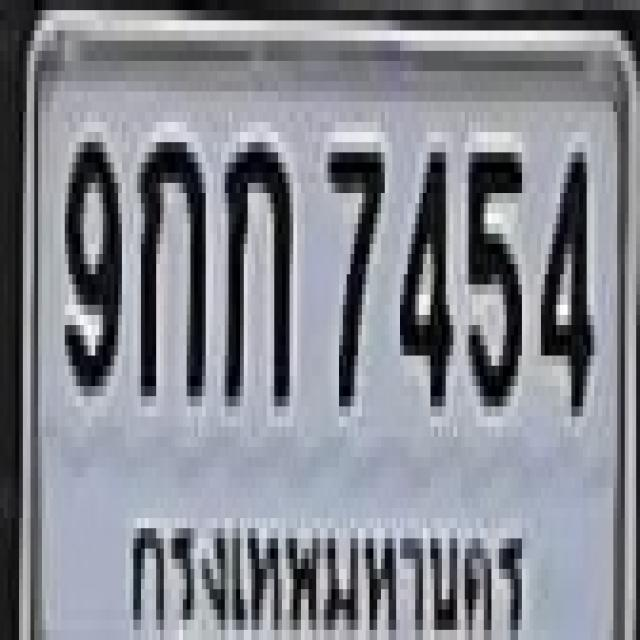-: (219, 132, 288, 396), (137, 132, 202, 396)
4: (537, 142, 591, 406), (396, 142, 450, 396)
5: (465, 142, 518, 396)
7: (324, 142, 381, 396)
9: (61, 132, 118, 386)
BKK: (114, 487, 537, 640)
